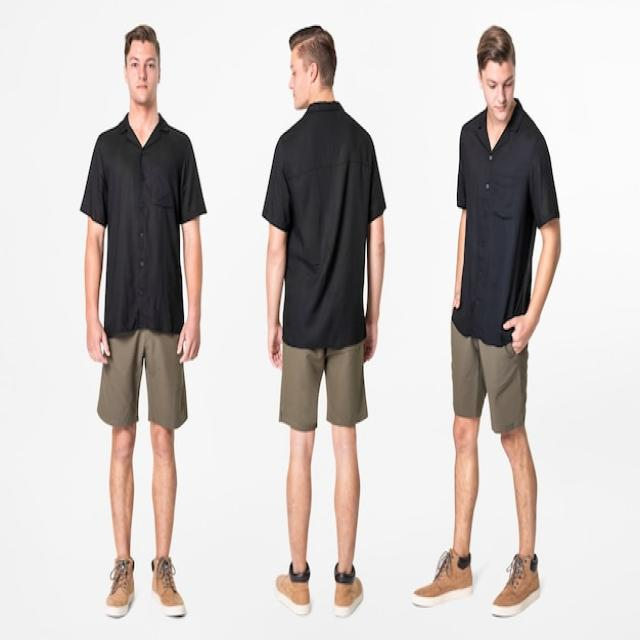Person: (412, 24, 560, 618), (78, 24, 207, 616), (261, 23, 386, 615)
